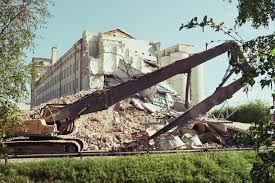excavator: (0, 42, 262, 160)
